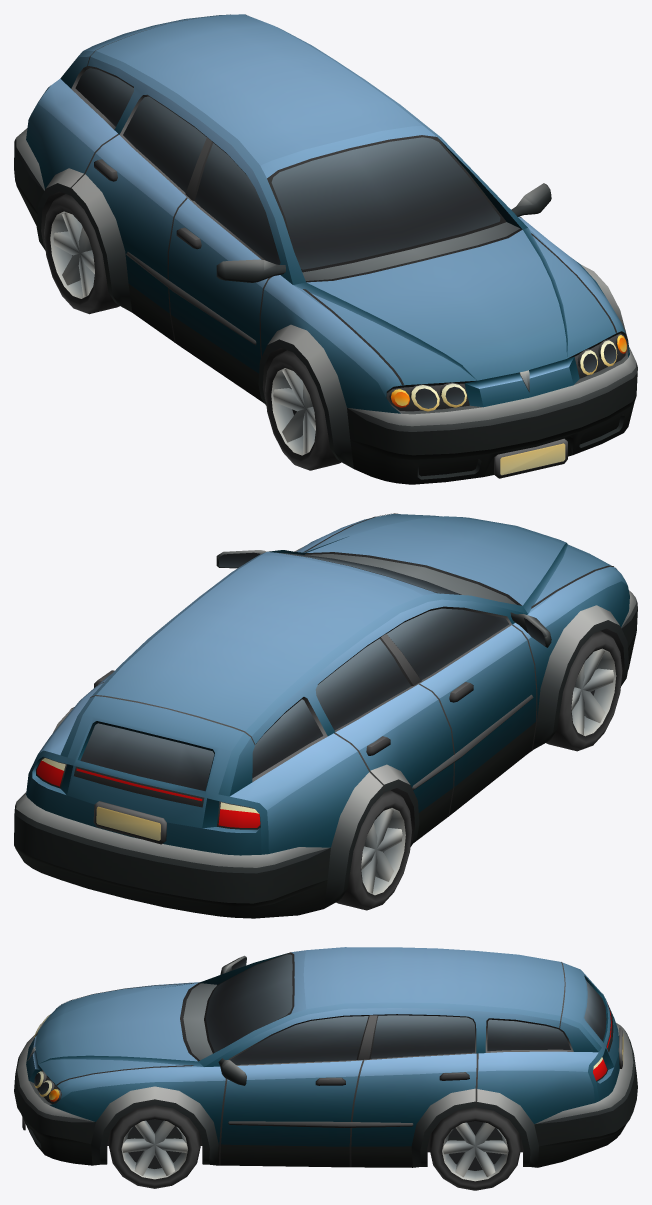
File: Car_14I.fbx
3 views of the same model, one above another, from view 1: azimuth 30°, elevation 25°; view 2: azimuth 150°, elevation 25°; view 3: azimuth 270°, elevation 25° (orthographic). The views are drawn at different scales.
Visible parts, largest first — view 1: Car_14I, Wheel_14I_F.R, Wheel_14I_R.R; view 2: Car_14I, Wheel_14I_F.R, Wheel_14I_R.R; view 3: Car_14I, Wheel_14I_F.L, Wheel_14I_R.L.
Boxes of the visible parts, x1,y1,x2,y2 form: Car_14I: [14, 14, 637, 484]; Wheel_14I_F.R: [265, 350, 341, 470]; Wheel_14I_R.R: [44, 194, 119, 314]; Car_14I: [14, 513, 637, 918]; Wheel_14I_F.R: [546, 631, 622, 751]; Wheel_14I_R.R: [336, 790, 412, 910]; Car_14I: [14, 947, 637, 1167]; Wheel_14I_F.L: [109, 1105, 200, 1188]; Wheel_14I_R.L: [429, 1107, 520, 1190].
Bounding box in the file's own units: 265 × 170 × 578.
